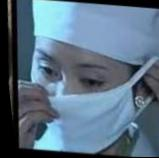WRONG: (20, 48, 133, 155)
